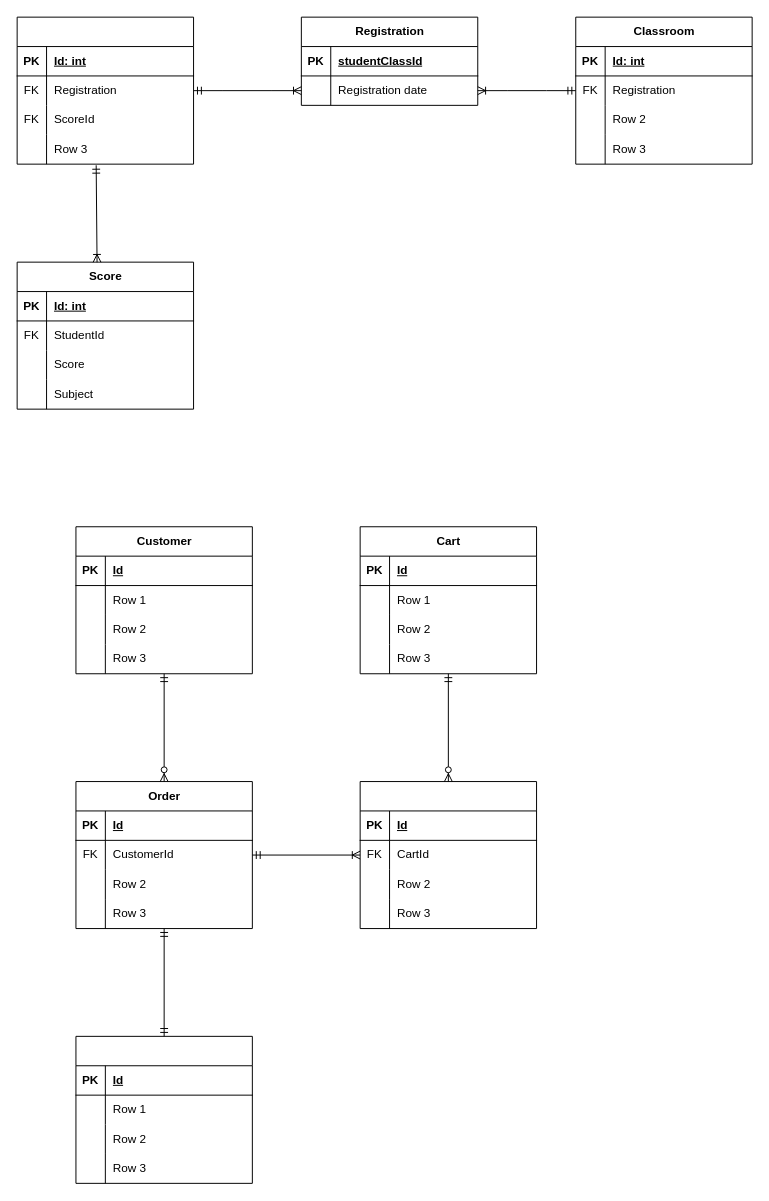
This 769x1201 diagram has some shape labels left out. The box of each missing label's shape, as (x1, y1, x2, y2) in pixels:
Payment: (75, 1035, 252, 1183)
Product: (359, 781, 537, 929)
Student: (16, 16, 194, 164)
